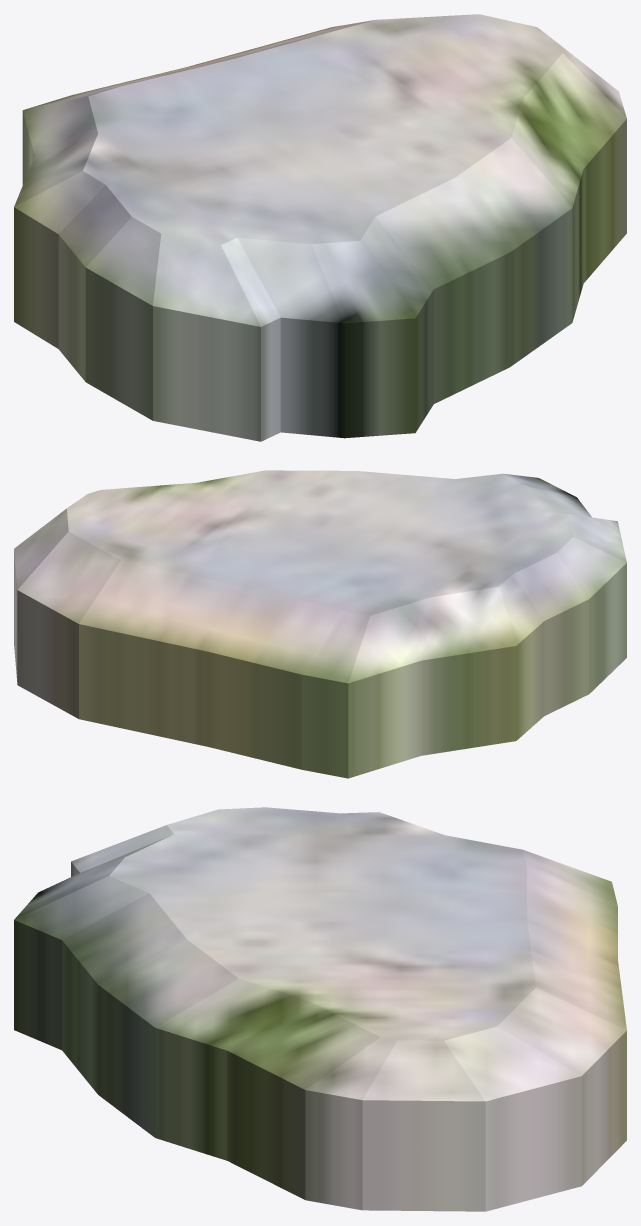
Rendered from stone.32.fbx.
The picture shows the model from 3 angles, top to bottom: view 1: azimuth 30°, elevation 25°; view 2: azimuth 150°, elevation 25°; view 3: azimuth 270°, elevation 25°; orthographic projection. The views are drawn at different scales.
Visible parts, largest first — view 1: stone.32; view 2: stone.32; view 3: stone.32.
Part boxes in pixels (x1,y1,x2,y2): stone.32: [14, 14, 626, 441]; stone.32: [14, 470, 626, 778]; stone.32: [14, 807, 626, 1211].
Bounding box in the file's own units: 37.67 × 9.74 × 35.74.
Materials: 1 (1 with a texture image).
